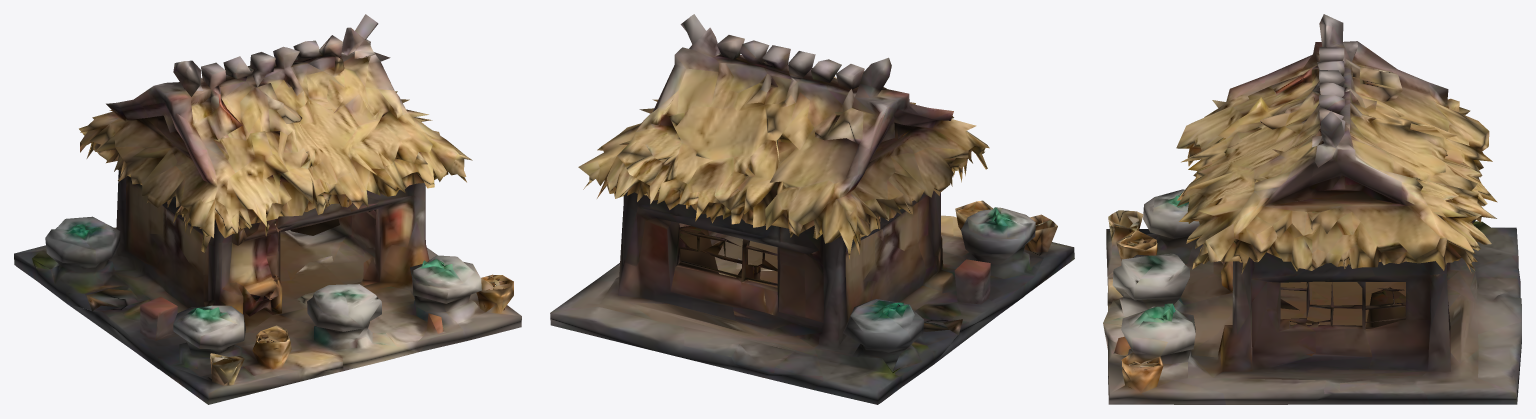
File: anc_hut.glb
3 views of the same model, side by side, from view 1: azimuth 30°, elevation 25°; view 2: azimuth 150°, elevation 25°; view 3: azimuth 270°, elevation 25° (orthographic). The views are drawn at different scales.
Parts seen in each view (by area): view 1: tripo_node_e3d21a8a-8b3a-4b3a-ba2b-c0ecffd33791; view 2: tripo_node_e3d21a8a-8b3a-4b3a-ba2b-c0ecffd33791; view 3: tripo_node_e3d21a8a-8b3a-4b3a-ba2b-c0ecffd33791.
Part boxes in pixels (x1,y1,x2,y2): tripo_node_e3d21a8a-8b3a-4b3a-ba2b-c0ecffd33791: (14, 14, 521, 404); tripo_node_e3d21a8a-8b3a-4b3a-ba2b-c0ecffd33791: (550, 14, 1074, 404); tripo_node_e3d21a8a-8b3a-4b3a-ba2b-c0ecffd33791: (1103, 14, 1521, 404).
Size of the model in its own units: 0.9274 by 0.6895 by 0.9792.
Materials: 1 (1 with a texture image).
